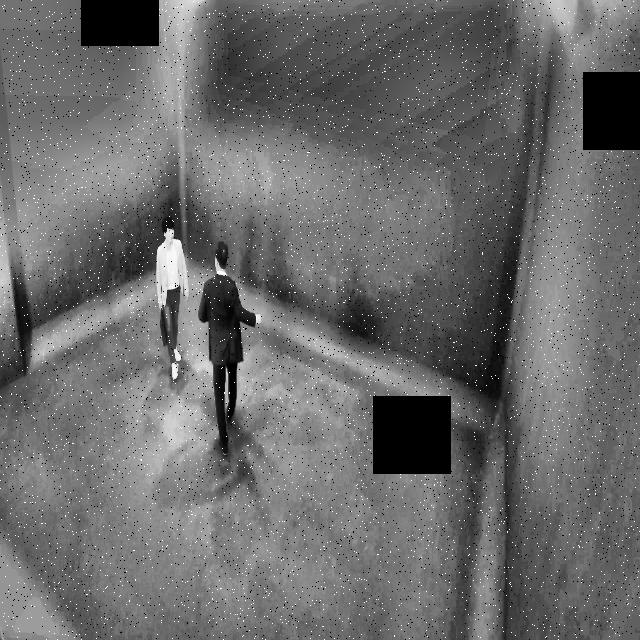assult: (146, 202, 264, 469)
